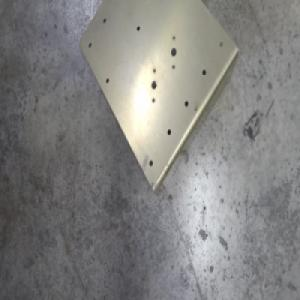MetalSheet: (77, 0, 239, 197)
